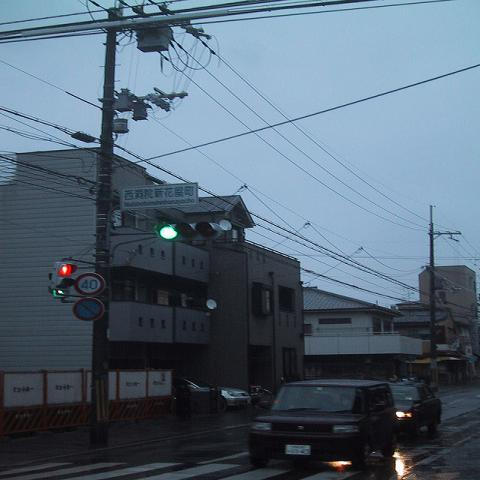car: (246, 380, 404, 474), (172, 376, 251, 412), (389, 382, 442, 435)
